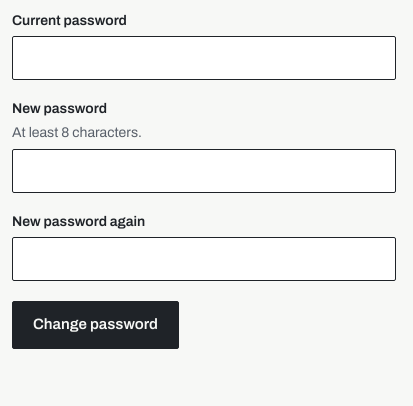
Test: ChangePasswordForm › shows the server's error, and leaves every password field empty afterwards
Type "wrong-one" into the password field labelled "Current password". click: x=204, y=58
box: [12,36,396,80]
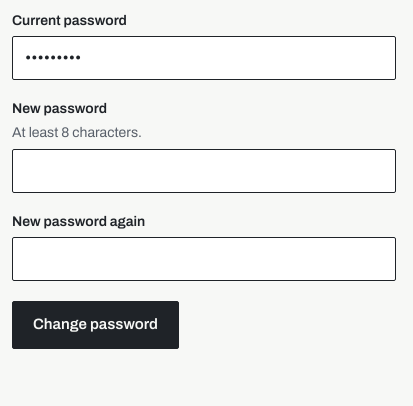
Type "brand-new-pass" into the password field labelled "New password". click: x=204, y=171
box: [12,149,396,193]
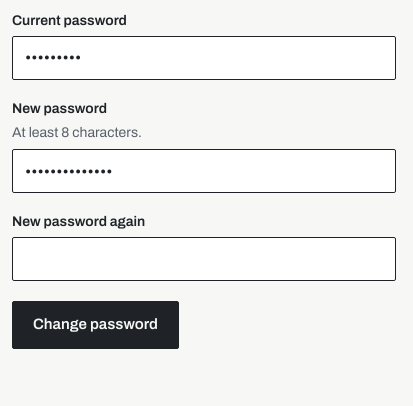
Type "brand-new-pass" into the password field labelled "New password again". click: x=204, y=258
box: [12,236,396,280]
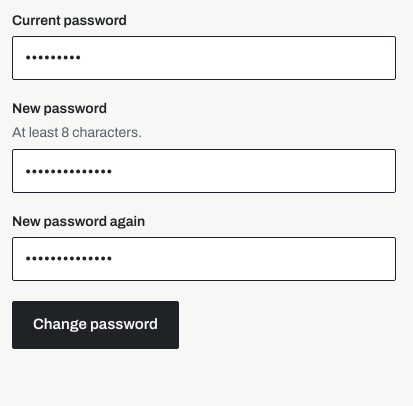
Submit the form labelled "Current password"
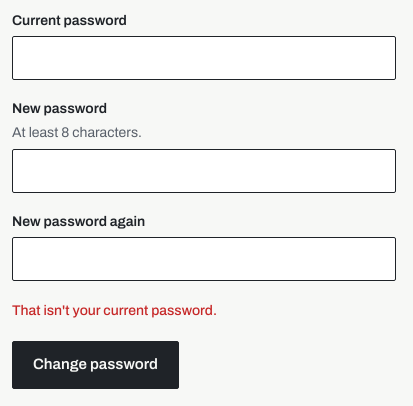
Check: the message reads "That isn't your current password.", box [12,302,217,318]
Check: the password field labelled "Current password" is empty, box [12,36,396,80]
Check: the password field labelled "New password" is empty, box [12,149,396,193]
